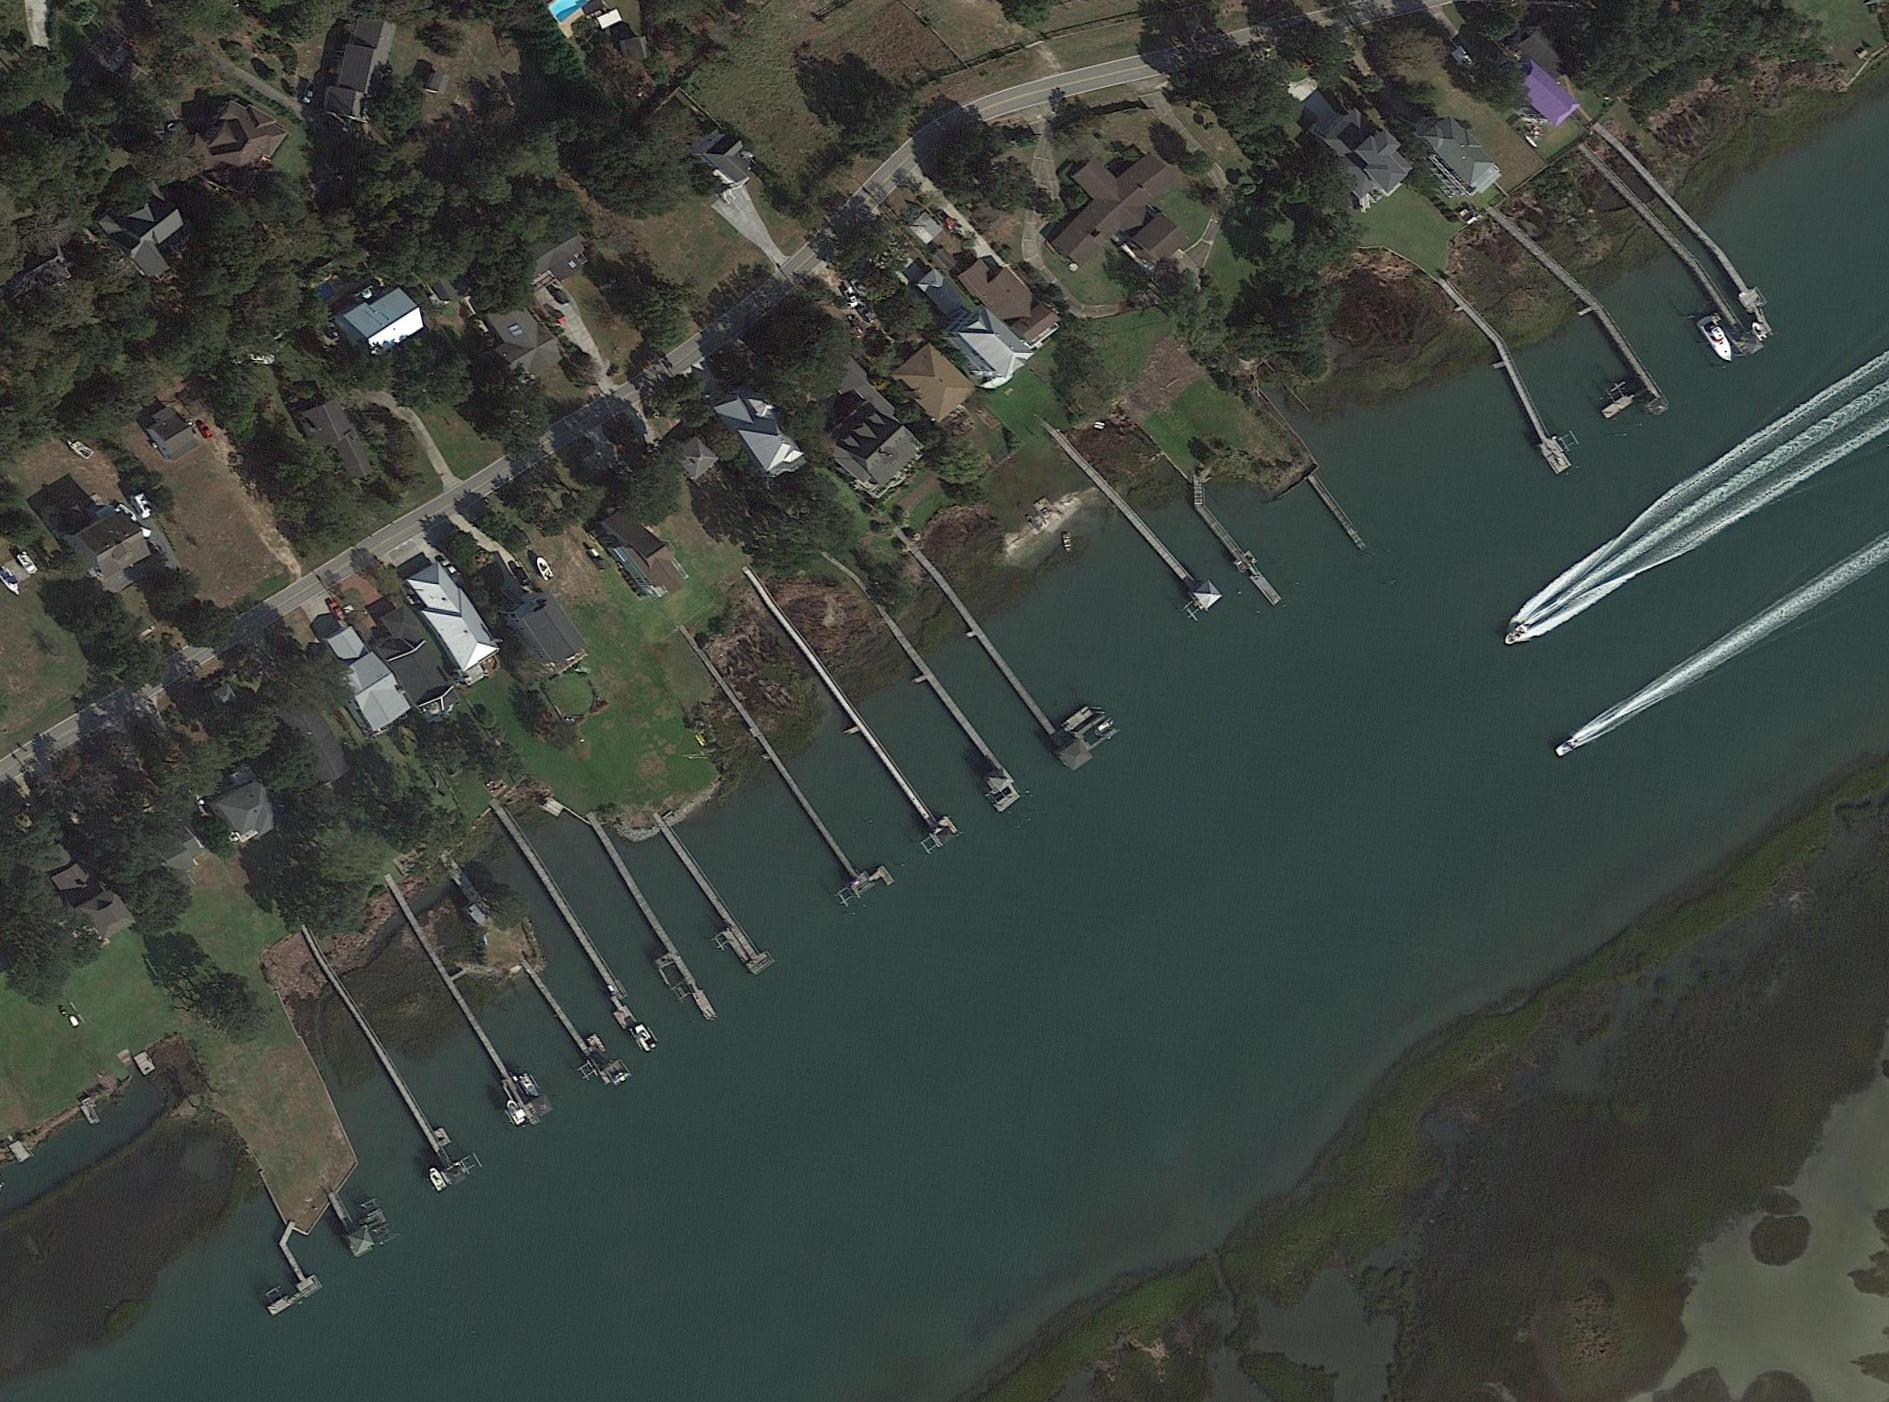harbor: (689, 649, 896, 917), (917, 521, 1123, 776), (763, 601, 962, 858), (301, 926, 486, 1189), (494, 812, 660, 1058), (397, 888, 556, 1130), (863, 610, 1024, 815), (1061, 426, 1224, 615), (578, 817, 717, 1031), (653, 819, 775, 980), (518, 944, 633, 1095), (1549, 302, 1670, 438), (1478, 338, 1580, 477), (1190, 499, 1286, 610), (1685, 258, 1764, 363), (241, 1227, 324, 1316), (1710, 245, 1781, 340), (1305, 471, 1369, 554), (327, 1188, 378, 1258)
ship: (1695, 312, 1739, 366), (630, 1018, 657, 1053), (63, 433, 94, 462), (504, 1096, 528, 1129), (1501, 624, 1530, 648), (16, 549, 40, 577), (1555, 736, 1582, 759), (534, 555, 555, 583), (426, 1165, 447, 1192)
